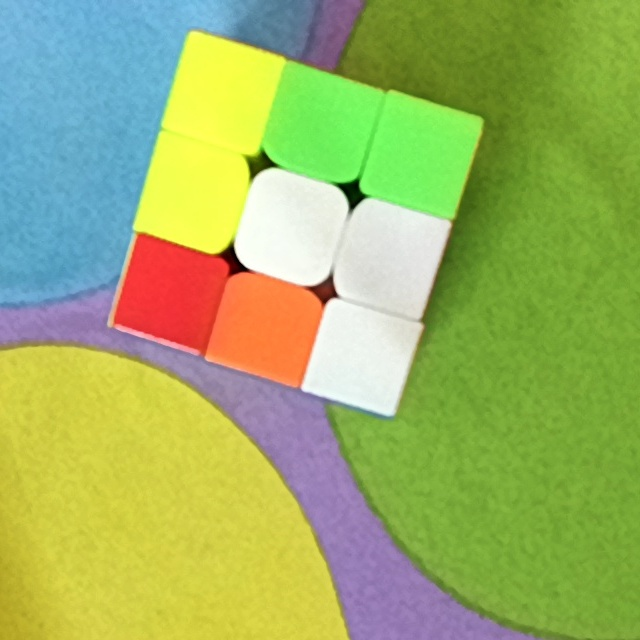tile: (383, 114, 463, 196), (282, 84, 363, 164), (184, 56, 261, 132), (254, 190, 329, 267), (224, 294, 305, 365), (158, 156, 232, 231), (353, 220, 427, 294), (131, 258, 206, 330), (328, 317, 399, 391)
